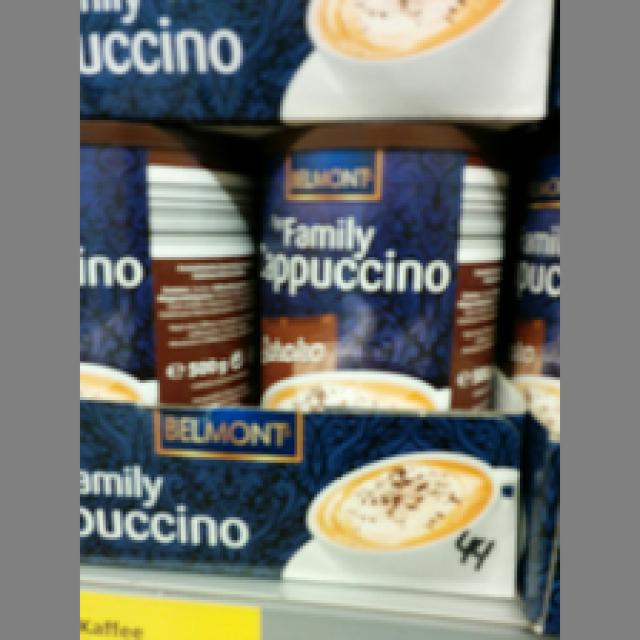groceries: (254, 123, 503, 406), (80, 117, 254, 400)
